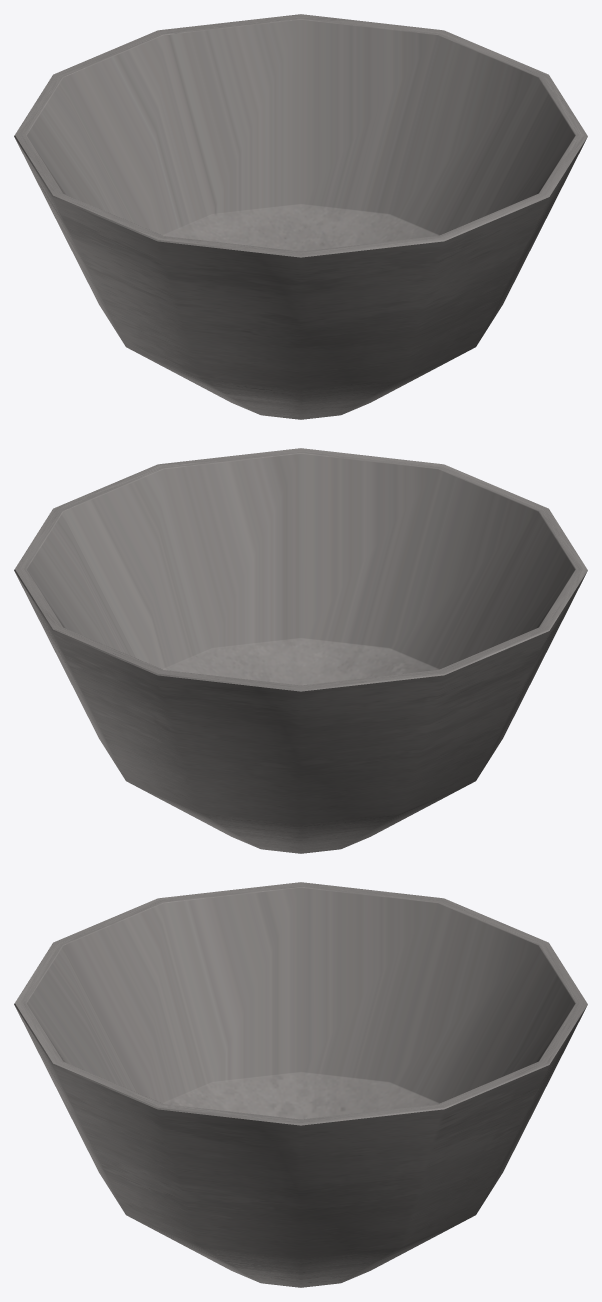
File: Bowl.fbx
3 views of the same model, one above another, from view 1: azimuth 30°, elevation 25°; view 2: azimuth 150°, elevation 25°; view 3: azimuth 270°, elevation 25° (orthographic).
Visible parts, largest first — view 1: pCylinder1; view 2: pCylinder1; view 3: pCylinder1.
Boxes of the visible parts, box(x1,y1,x2,y2) form: pCylinder1: box(14, 14, 587, 419); pCylinder1: box(14, 448, 587, 853); pCylinder1: box(14, 882, 587, 1287).
Size of the model in its own units: 3.81 by 1.84 by 3.81.
